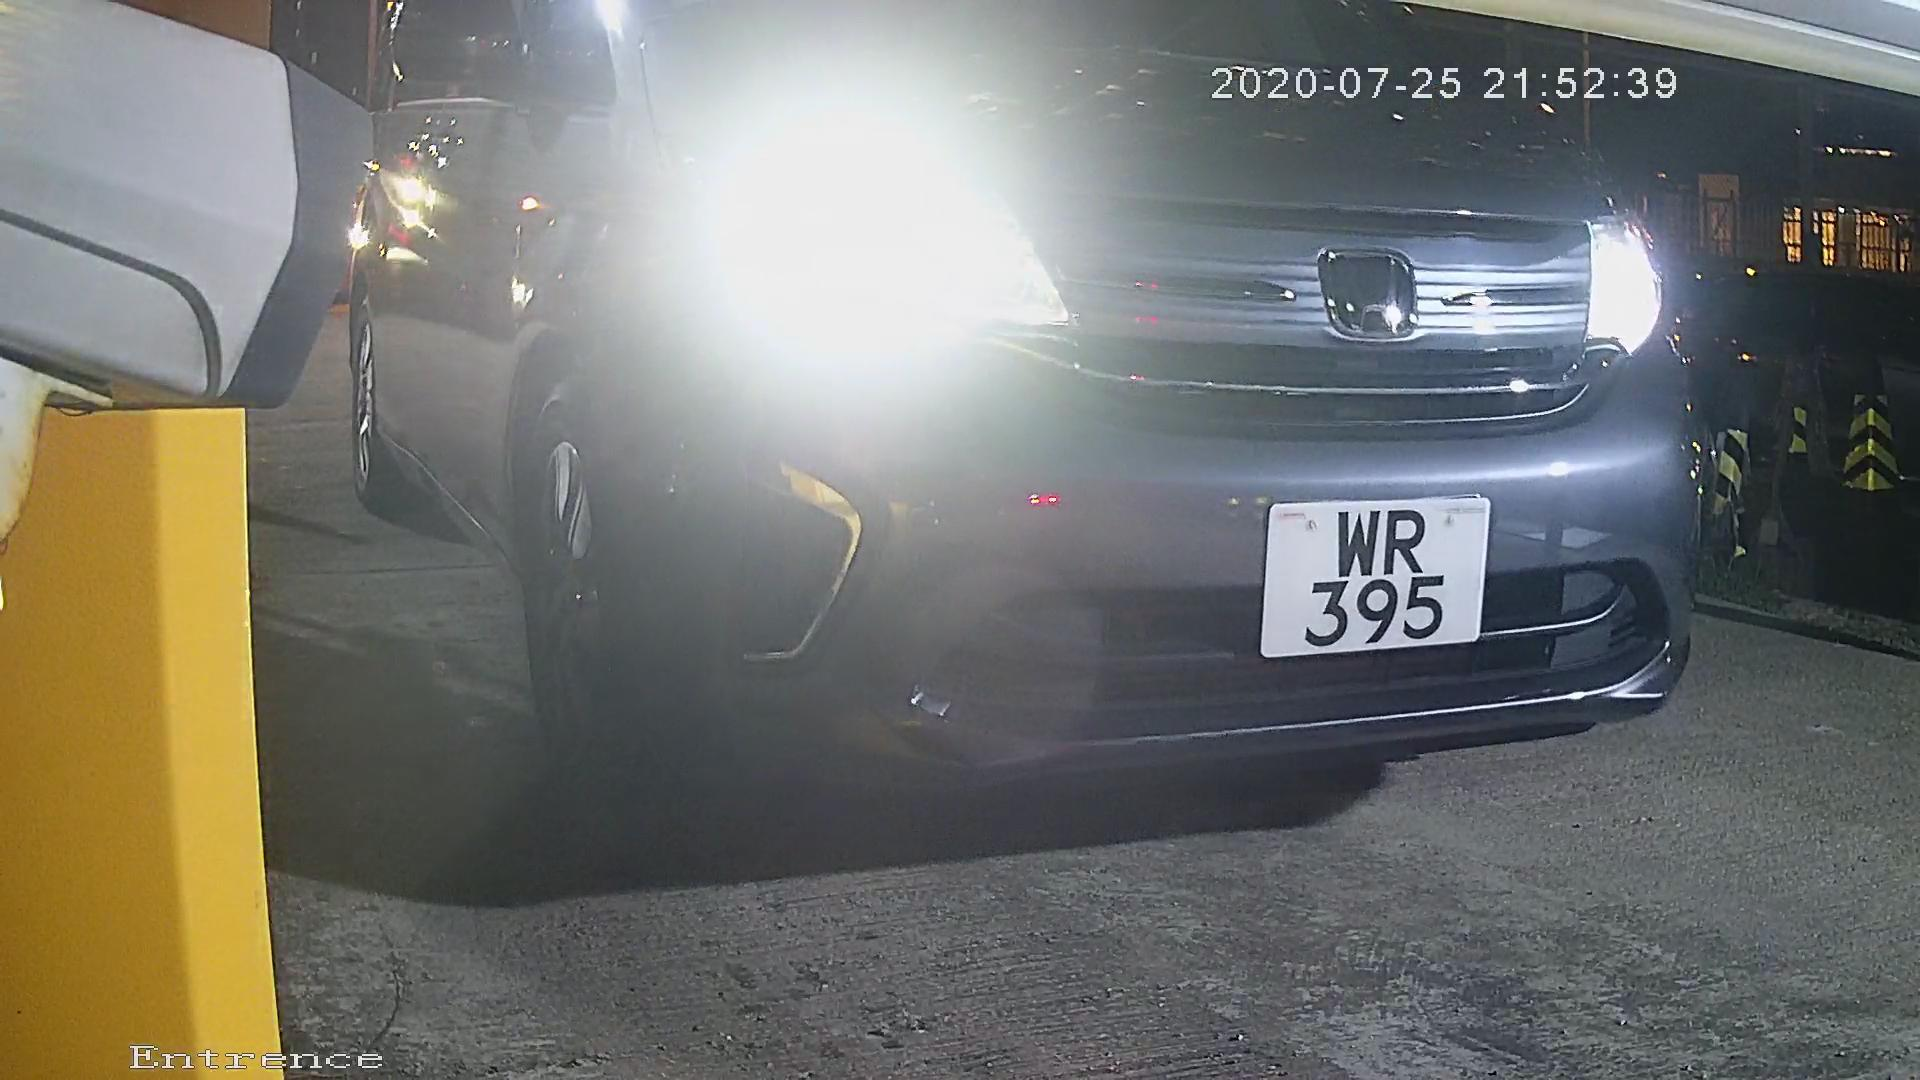privatecar: (258, 3, 1749, 866)
